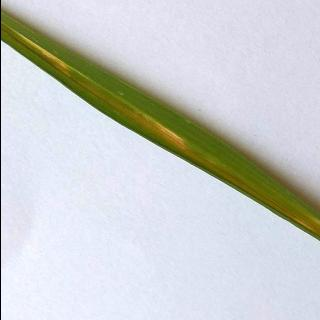Blast: (150, 116, 186, 142)
